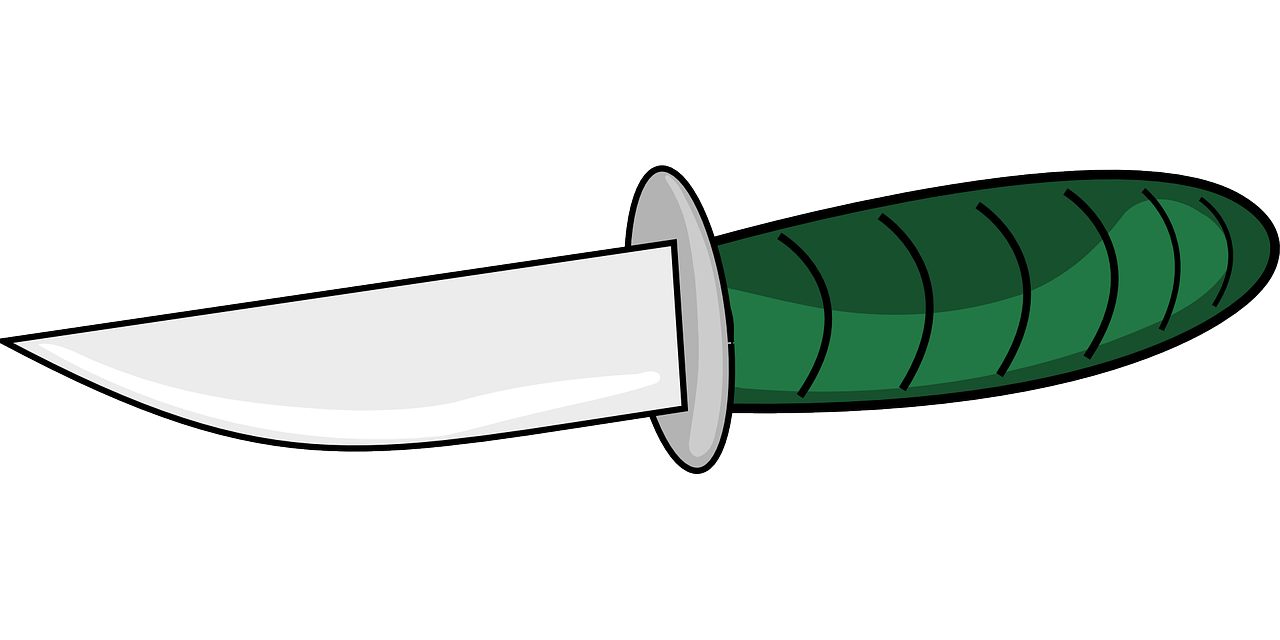knife: (2, 154, 1280, 474)
